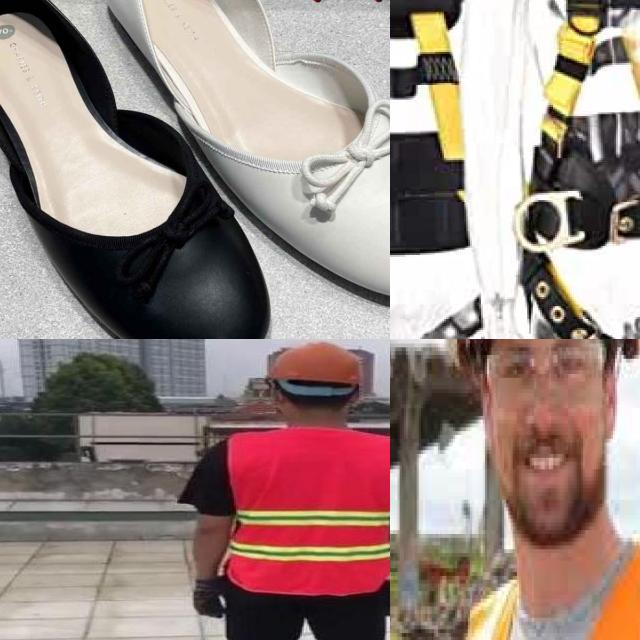Harness: (519, 0, 640, 339), (390, 0, 469, 254)
No_Ear-Protection: (268, 379, 288, 414), (351, 376, 367, 409)
Sandals: (78, 0, 390, 335), (0, 0, 295, 339)
glasses: (476, 340, 604, 404)
hand_glove: (184, 568, 240, 630), (372, 565, 390, 622)
person: (173, 339, 390, 640)
vest: (442, 541, 640, 640)
